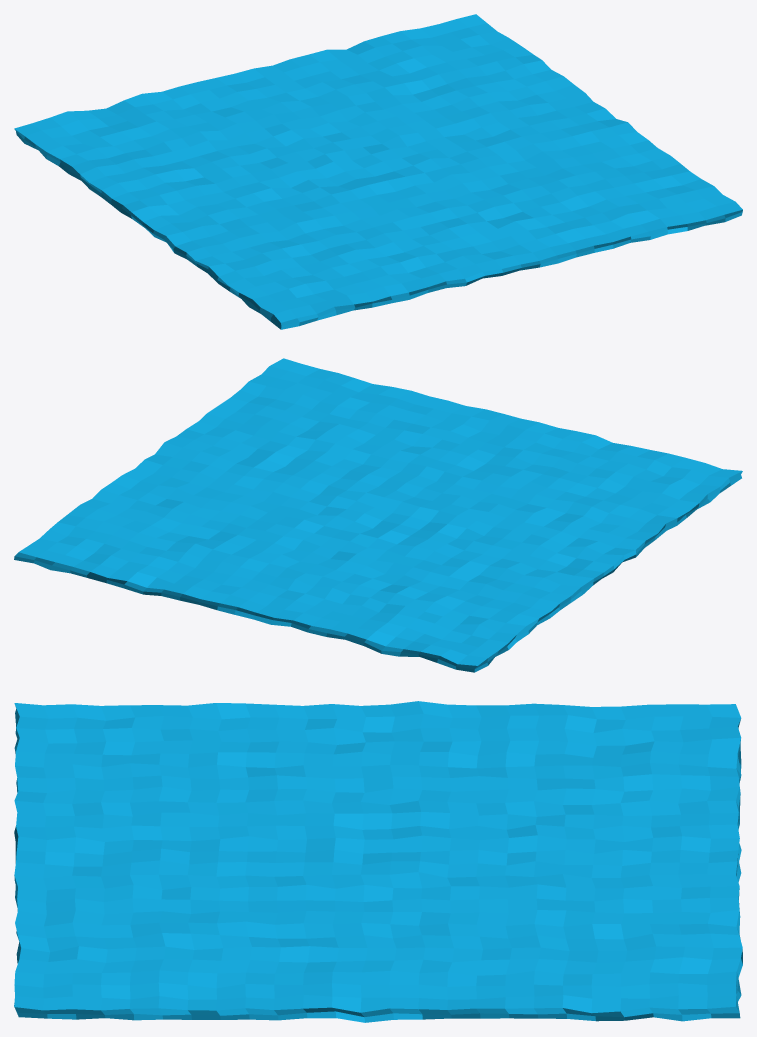
The model's file is awita.fbx.
The picture shows the model from 3 angles, top to bottom: view 1: azimuth 30°, elevation 25°; view 2: azimuth 150°, elevation 25°; view 3: azimuth 270°, elevation 25°; orthographic projection. The views are drawn at different scales.
Visible parts, largest first — view 1: Box001; view 2: Box001; view 3: Box001.
Boxes of the visible parts, left/top/right/bottom form: Box001: left=14, top=14, right=742, bottom=329; Box001: left=14, top=358, right=742, bottom=672; Box001: left=14, top=701, right=742, bottom=1022.
Bounding box in the file's own units: 5052 × 129 × 5052.
